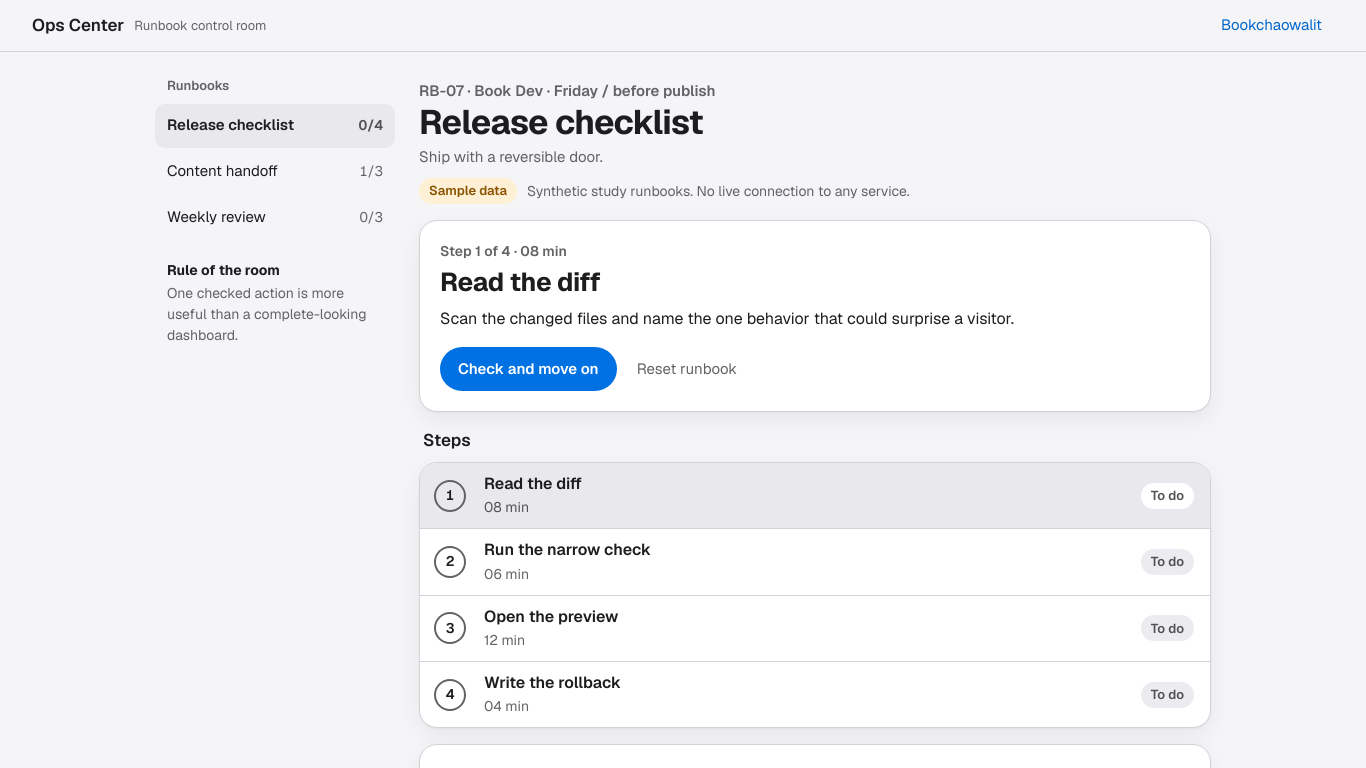
review 2026-11-18 › switching to a runbook lands on its first open step
The image size is (1366, 768).
Step 1. Click the button "Content handoff 1/3" → (275, 172), box [155, 150, 395, 194]
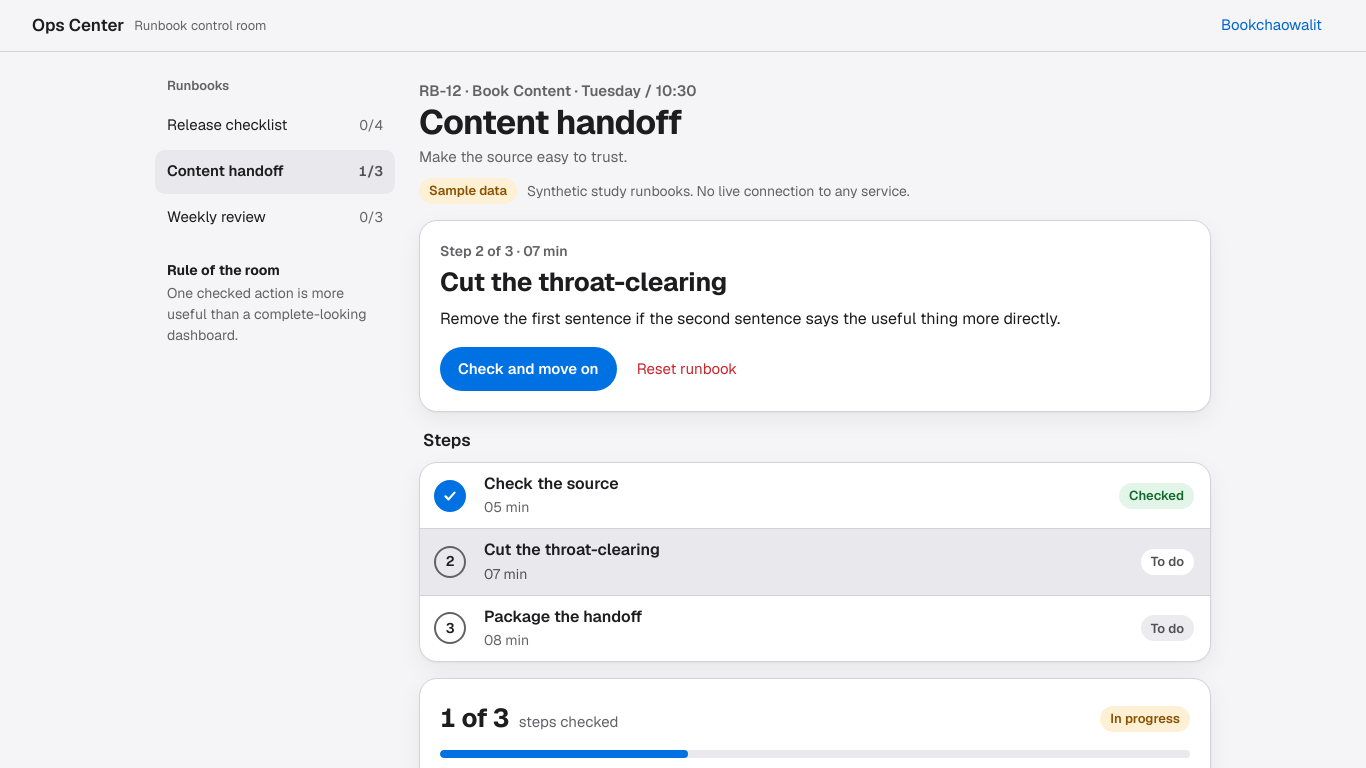
Now the heading with id "focus-title" reads "Cut the throat-clearing", box [440, 265, 727, 299]
